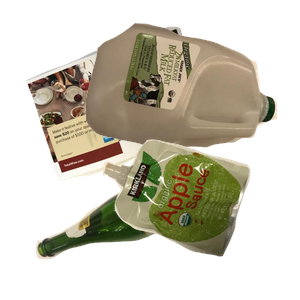glass: (33, 158, 246, 300)
paper: (23, 24, 232, 199)
plastic: (83, 21, 300, 162)
trash: (100, 137, 300, 300)
